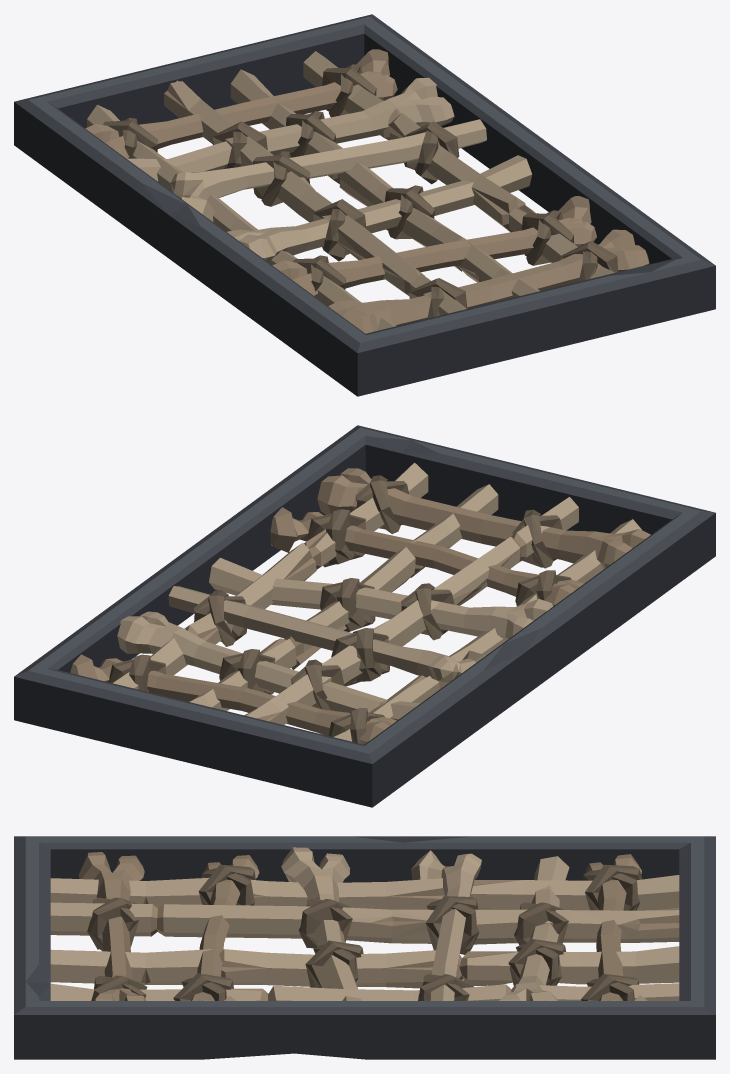
The model's file is SM_Veh_Ship_Grate_05.fbx.
3 views of the same model, one above another, from view 1: azimuth 30°, elevation 25°; view 2: azimuth 150°, elevation 25°; view 3: azimuth 270°, elevation 25° (orthographic). The views are drawn at different scales.
Visible parts, largest first — view 1: SM_Veh_Ship_Grate_05; view 2: SM_Veh_Ship_Grate_05; view 3: SM_Veh_Ship_Grate_05.
Boxes of the visible parts, bbox=[...] form: SM_Veh_Ship_Grate_05: bbox=[14, 14, 715, 396]; SM_Veh_Ship_Grate_05: bbox=[14, 425, 715, 807]; SM_Veh_Ship_Grate_05: bbox=[14, 836, 715, 1059].
Size of the model in its own units: 276 by 46.27 by 458.
